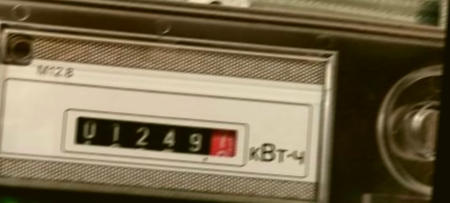0: (81, 119, 97, 140)
1: (108, 122, 122, 144)
2: (133, 125, 150, 148)
4: (162, 127, 176, 148)
7: (216, 129, 230, 150)
9: (187, 132, 202, 154)
screen: (58, 104, 252, 171)
